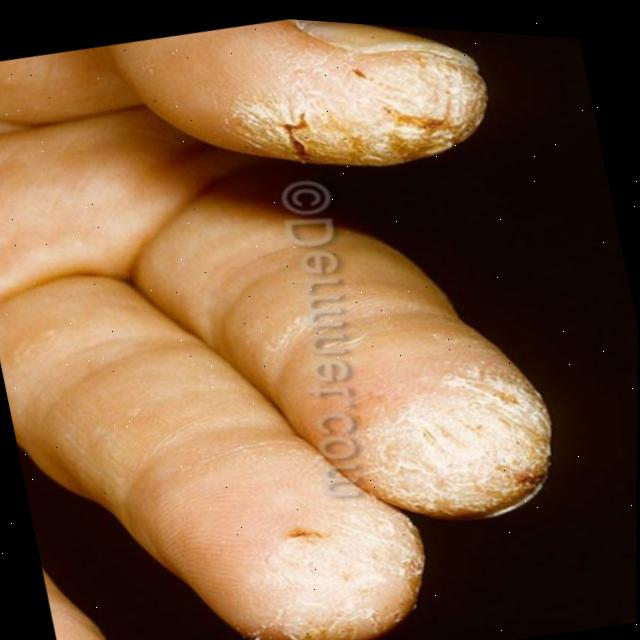Eczema: (272, 26, 499, 173), (247, 499, 434, 640), (386, 363, 542, 505)
